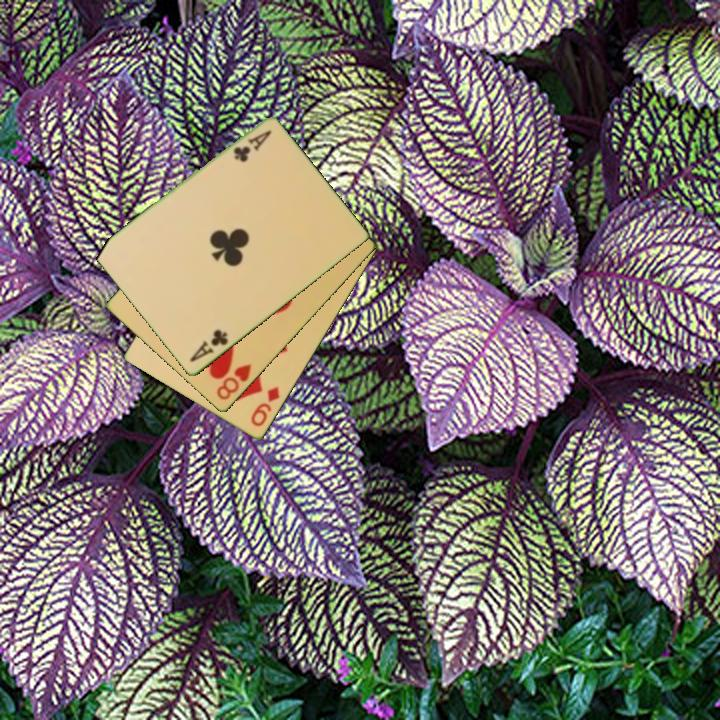8h: (213, 361, 254, 403)
9d: (247, 383, 283, 430)
Ac: (186, 326, 231, 365), (229, 127, 275, 165)
